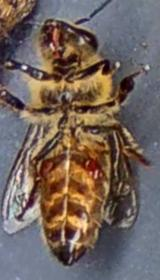varroa_mite: (78, 150, 110, 185), (38, 152, 58, 180)
